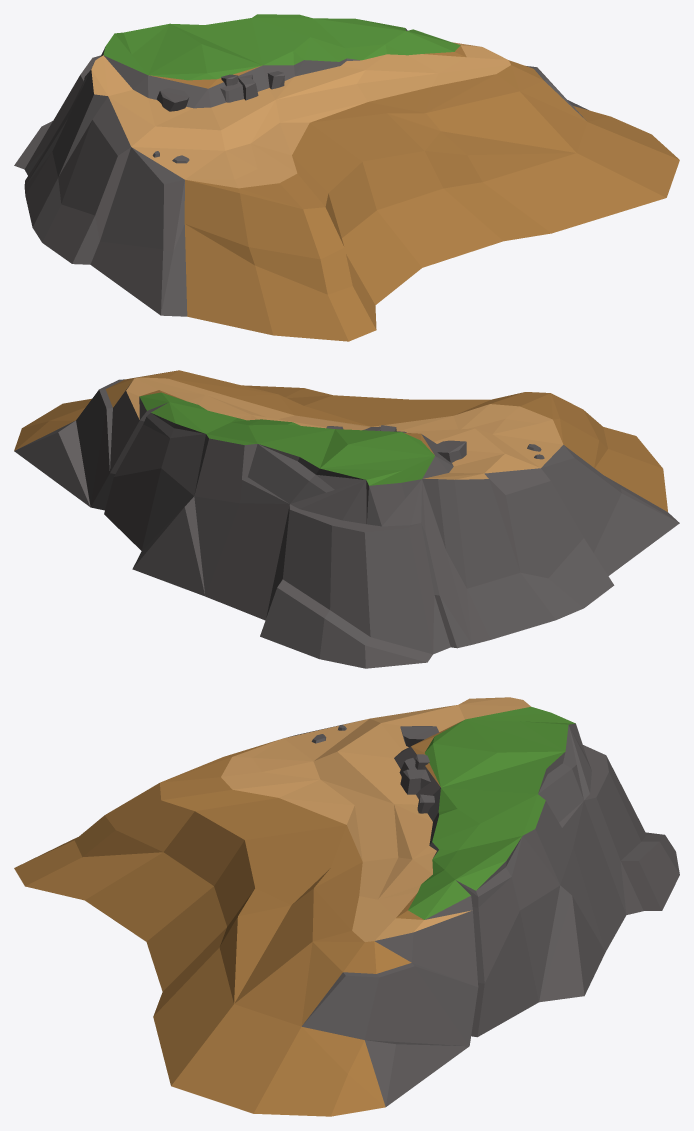
Rendered from island-small.glb.
The picture shows the model from 3 angles, top to bottom: view 1: azimuth 30°, elevation 25°; view 2: azimuth 150°, elevation 25°; view 3: azimuth 270°, elevation 25°; orthographic projection. The views are drawn at different scales.
Parts seen in each view (by area): view 1: island-small; view 2: island-small; view 3: island-small.
Boxes of the visible parts, x1,y1,x2,y2 form: island-small: (14, 14, 679, 341); island-small: (14, 370, 679, 668); island-small: (14, 697, 679, 1116).
Size of the model in its own units: 56.64 by 12.55 by 49.6.
